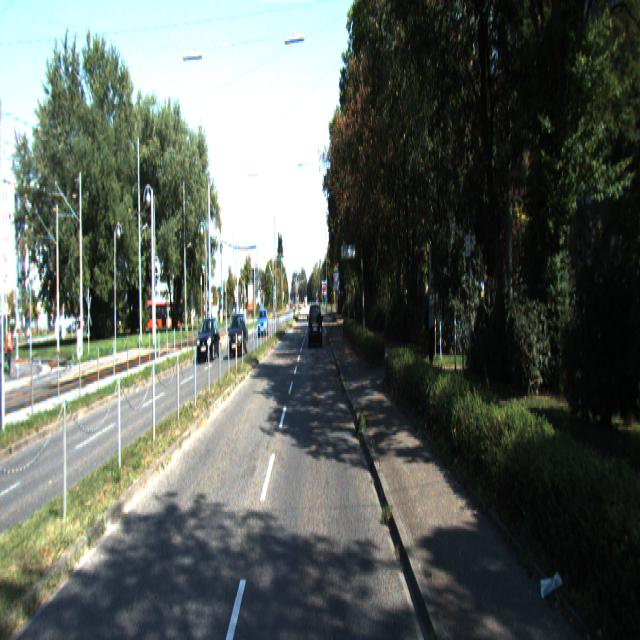Car: (197, 317, 220, 362), (228, 312, 248, 357), (308, 301, 323, 349), (258, 310, 269, 337)
